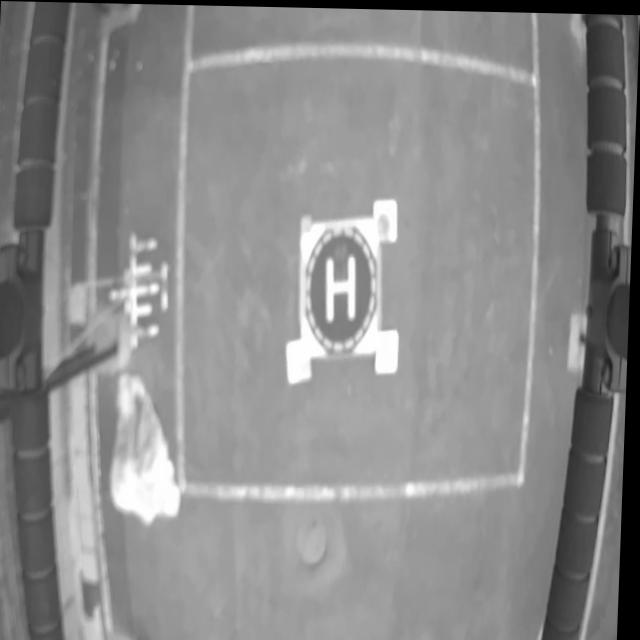Helipad: (326, 252, 357, 321)
